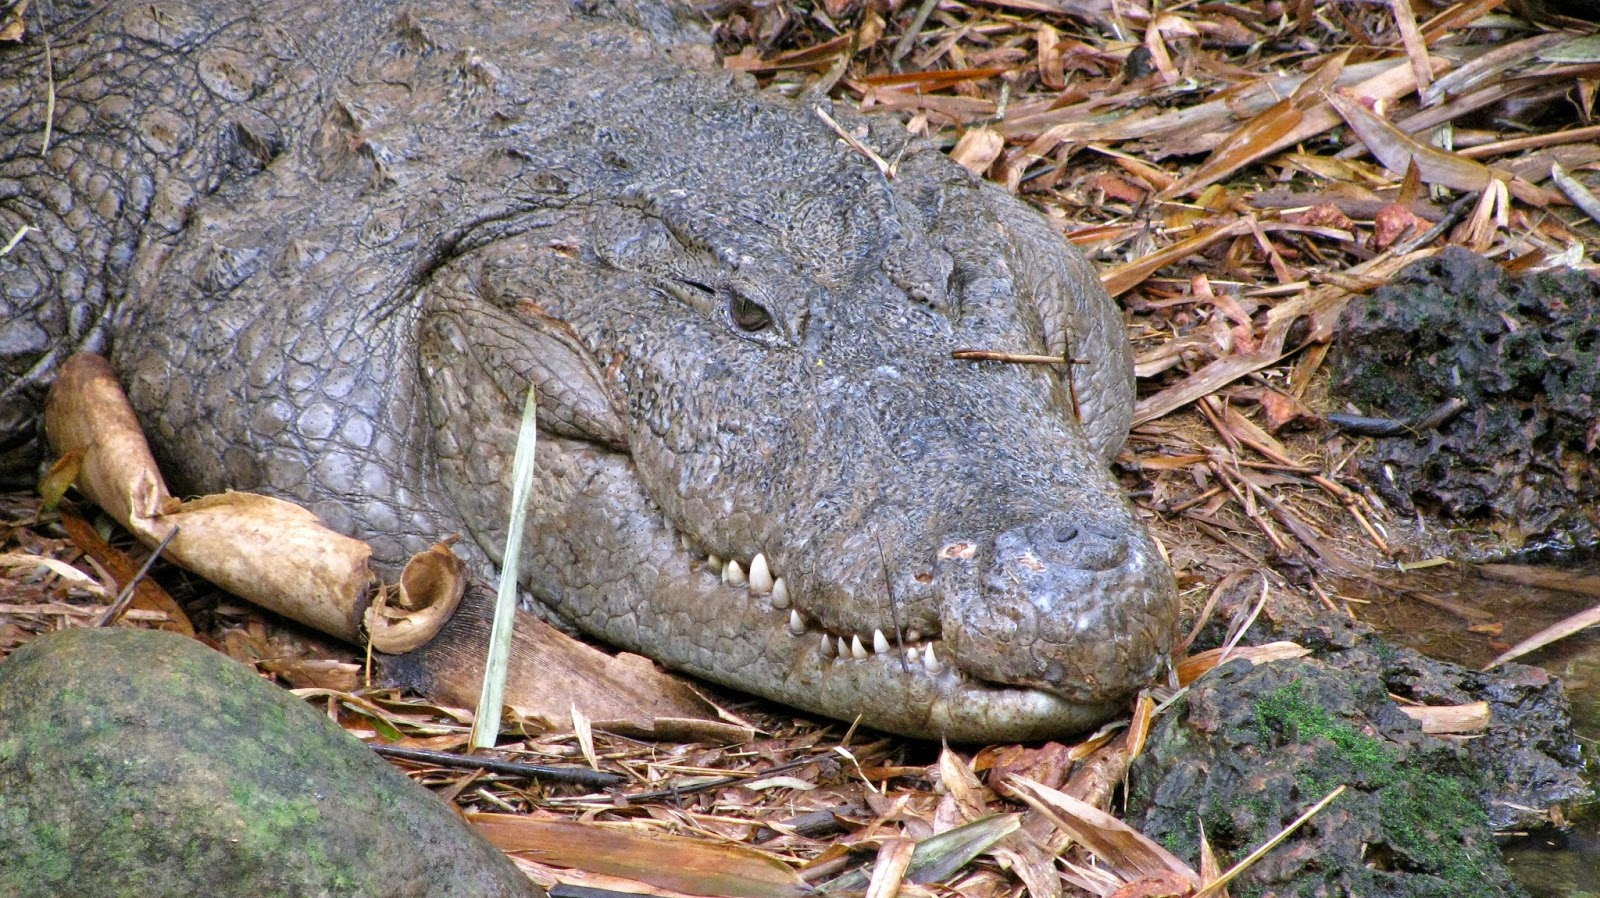Crocodile: (1, 12, 1192, 765)
